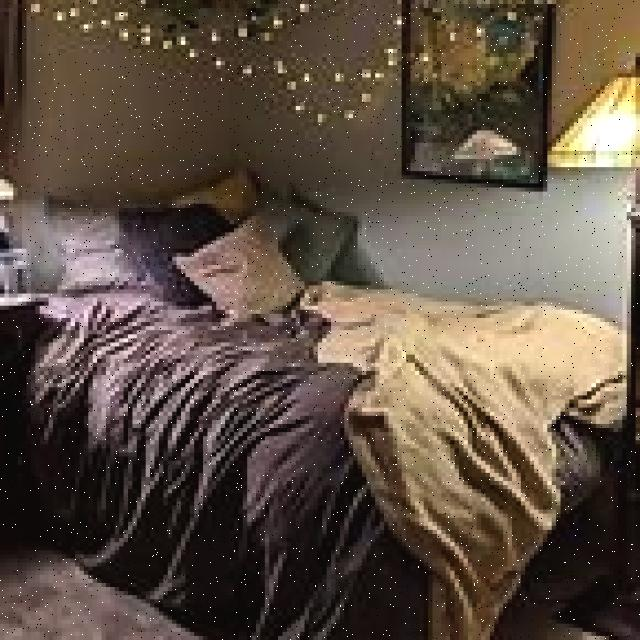bed: (10, 167, 623, 634)
